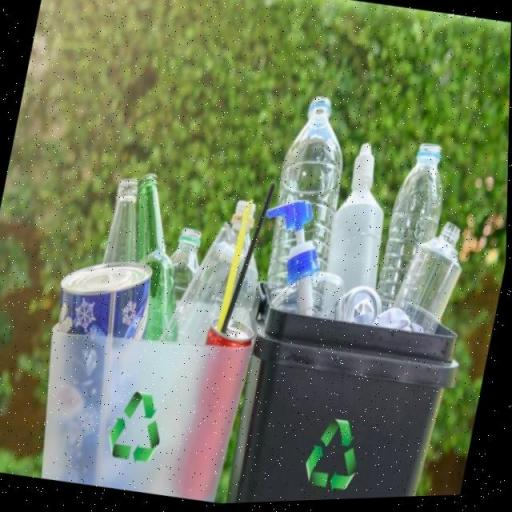plastic: (257, 92, 360, 310), (374, 138, 456, 320), (321, 137, 404, 294), (389, 214, 472, 344)
